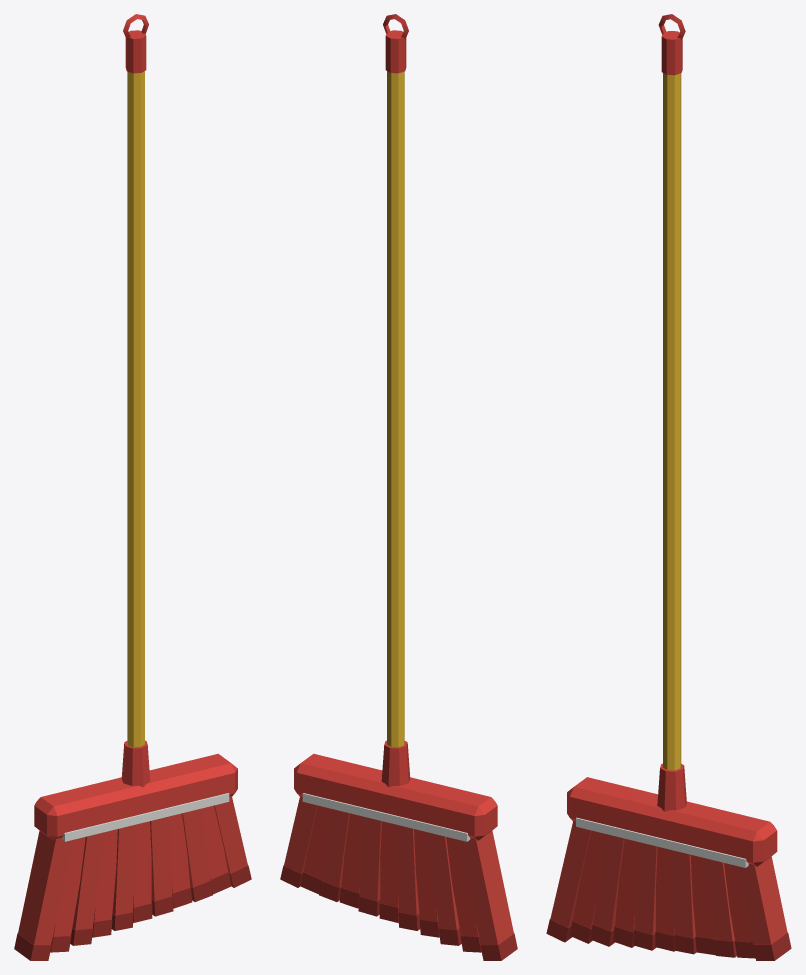
File: SC_Home_Broom_Plastic.gltf
3 views of the same model, side by side, from view 1: azimuth 30°, elevation 25°; view 2: azimuth 150°, elevation 25°; view 3: azimuth 330°, elevation 25° (orthographic). The views are drawn at different scales.
Parts seen in each view (by area): view 1: SC_Home_Broom_Plastic; view 2: SC_Home_Broom_Plastic; view 3: SC_Home_Broom_Plastic.
Boxes of the visible parts, x1=… form: SC_Home_Broom_Plastic: x1=14, y1=14, x2=251, y2=960; SC_Home_Broom_Plastic: x1=280, y1=14, x2=517, y2=960; SC_Home_Broom_Plastic: x1=546, y1=14, x2=791, y2=960.
Size of the model in its own units: 0.3365 by 1.33 by 0.058.
Materials: 1 (1 with a texture image).
